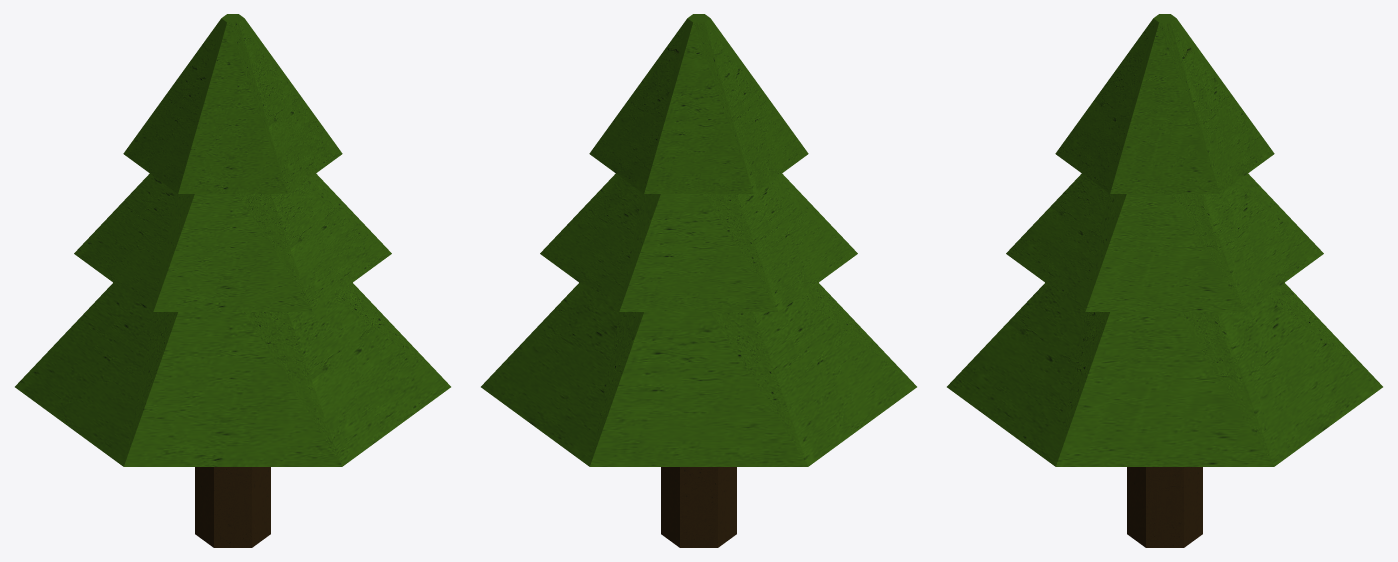
Rendered from fir_tree.obj.
3 renders of one model, left to right at view 1: azimuth 30°, elevation 25°; view 2: azimuth 150°, elevation 25°; view 3: azimuth 270°, elevation 25°, orthographic.
Visible parts, largest first — view 1: fir_tree; view 2: fir_tree; view 3: fir_tree.
Boxes of the visible parts, x1=… form: fir_tree: x1=15, y1=14, x2=450, y2=547; fir_tree: x1=481, y1=14, x2=916, y2=547; fir_tree: x1=947, y1=14, x2=1382, y2=547.
Size of the model in its own units: 5.96 by 8.96 by 6.88.
